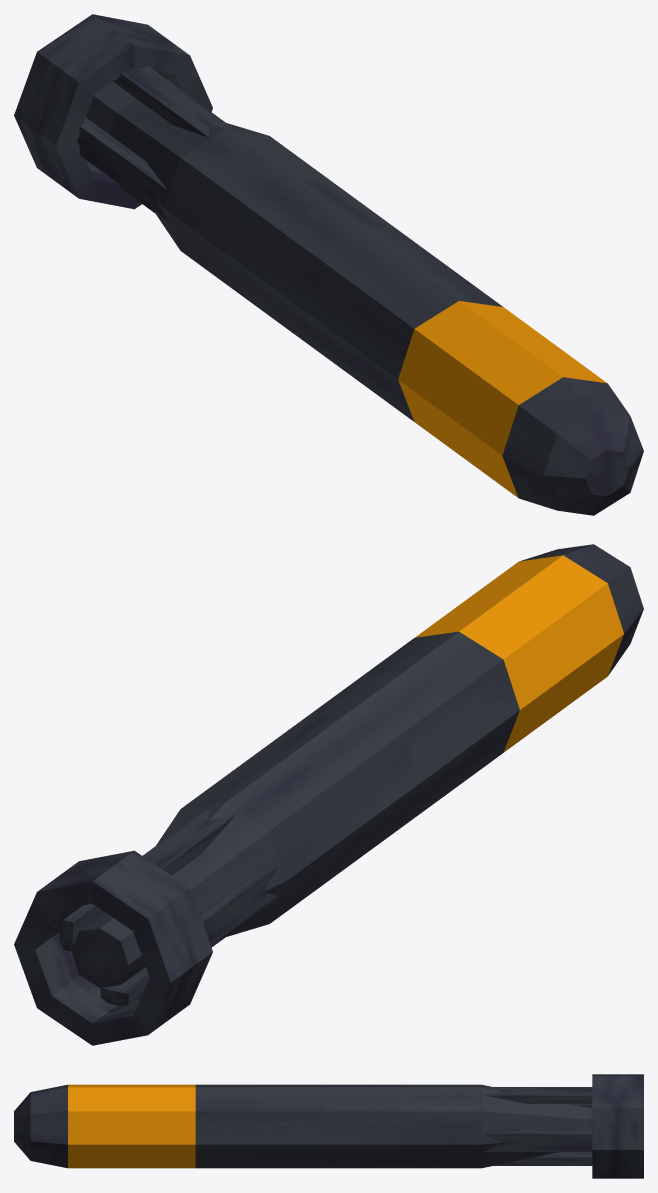
File: torpedo 1.fbx
The picture shows the model from 3 angles, top to bottom: view 1: azimuth 30°, elevation 25°; view 2: azimuth 150°, elevation 25°; view 3: azimuth 270°, elevation 25°; orthographic projection. The views are drawn at different scales.
Visible parts, largest first — view 1: Body, Cylinder, BeamsV, BeamsH; view 2: Body, Cylinder, BeamsH, BeamsV; view 3: Body, Cylinder, BeamsV, BeamsH.
Boxes of the visible parts, x1,y1,x2,y2 form: Body: (86, 82, 643, 515); Cylinder: (14, 14, 212, 209); BeamsV: (113, 66, 236, 212); BeamsH: (77, 117, 167, 219); Body: (71, 544, 643, 987); Cylinder: (14, 850, 212, 1045); BeamsH: (59, 867, 277, 951); BeamsV: (100, 807, 236, 1006); Body: (14, 1084, 592, 1168); Cylinder: (592, 1074, 643, 1178); BeamsV: (484, 1087, 592, 1165); BeamsH: (485, 1104, 592, 1151).
Bounding box in the file's own units: 277 × 277 × 1572.
